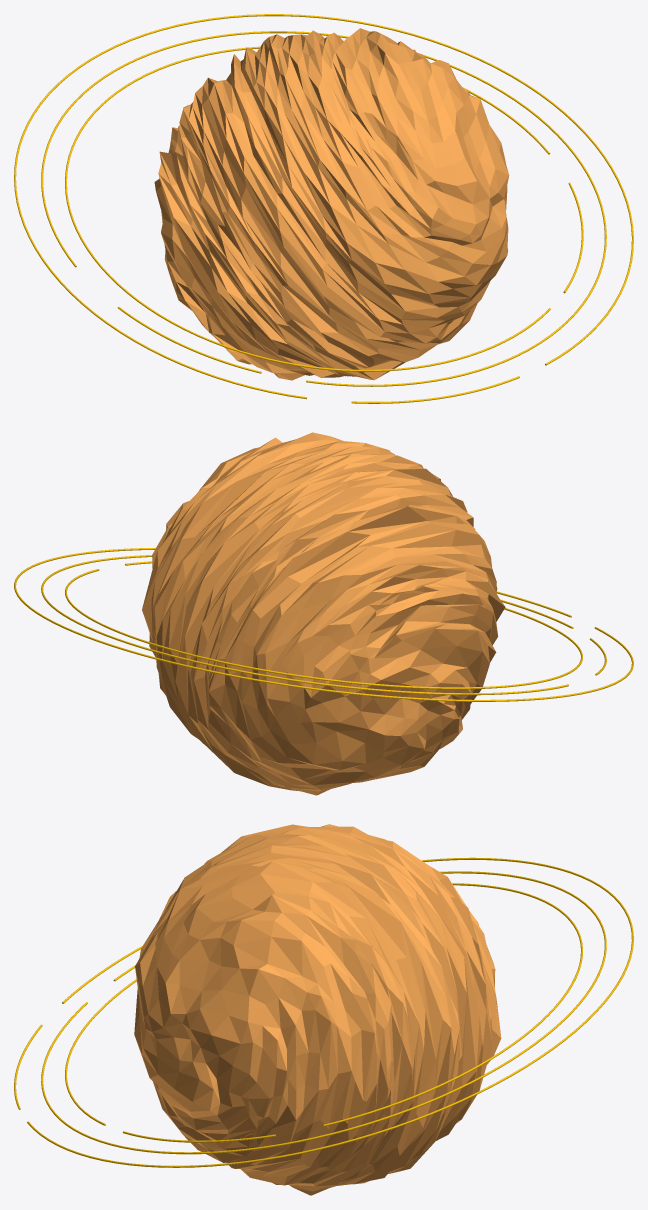
The model's file is mars.fbx.
3 views of the same model, one above another, from view 1: azimuth 30°, elevation 25°; view 2: azimuth 150°, elevation 25°; view 3: azimuth 270°, elevation 25° (orthographic). The views are drawn at different scales.
Visible parts, largest first — view 1: 球体, 圆环_6; view 2: 球体, 圆环_6; view 3: 球体, 圆环_6.
Boxes of the visible parts, <box> form: 球体: <box>154,28,509,380</box>; 圆环_6: <box>14,14,633,403</box>; 球体: <box>142,432,505,795</box>; 圆环_6: <box>14,547,633,701</box>; 球体: <box>134,824,501,1195</box>; 圆环_6: <box>14,857,633,1167</box>.
Size of the model in its own units: 3407 by 1938 by 3295.
